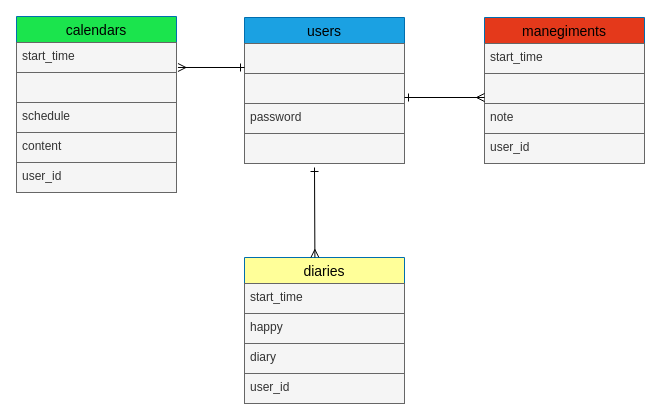
This 661x420 diagram has some shape labels left out. Here are the shapes that lost their labels. From the top down, the centre of each, then its label:
At (x=324, y=58): "name".
At (x=96, y=87): "end_time".
At (x=324, y=88): "email".
At (x=564, y=88): "record_id".
At (x=324, y=148): "nickname".
